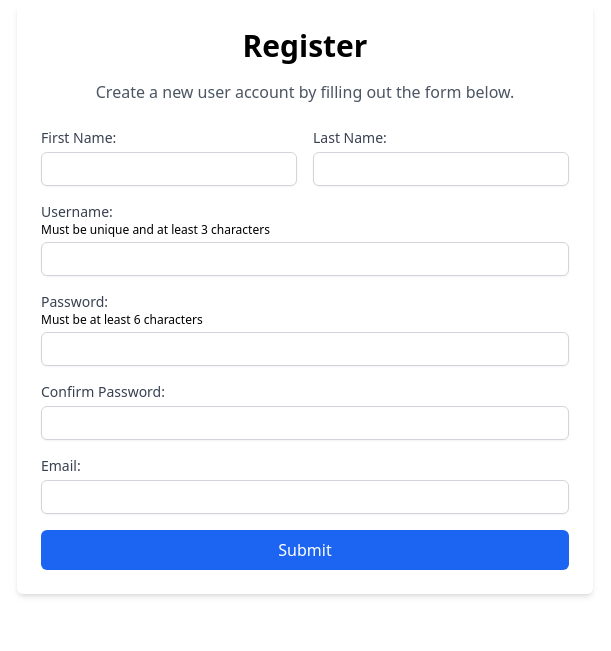
Test: RegisterUserForm component › shows generic error on network failure
Step 1. Type "testUser" into the field labelled "Username:" → (305, 259), box x1=41 y1=242 x2=569 y2=276
Step 2. Type "testPwd1" into the password field labelled "Password:" → (305, 349), box x1=41 y1=332 x2=569 y2=366
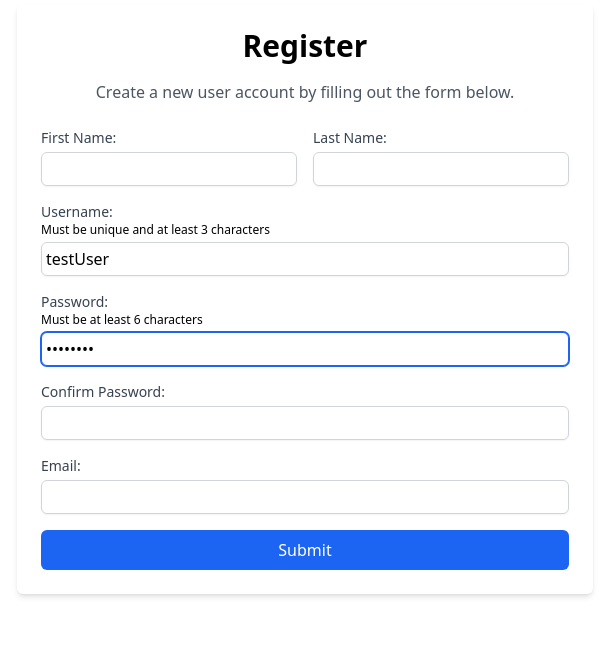
Step 3. Type "testPwd1" into the password field labelled "Confirm Password:" → (305, 423), box x1=41 y1=406 x2=569 y2=440
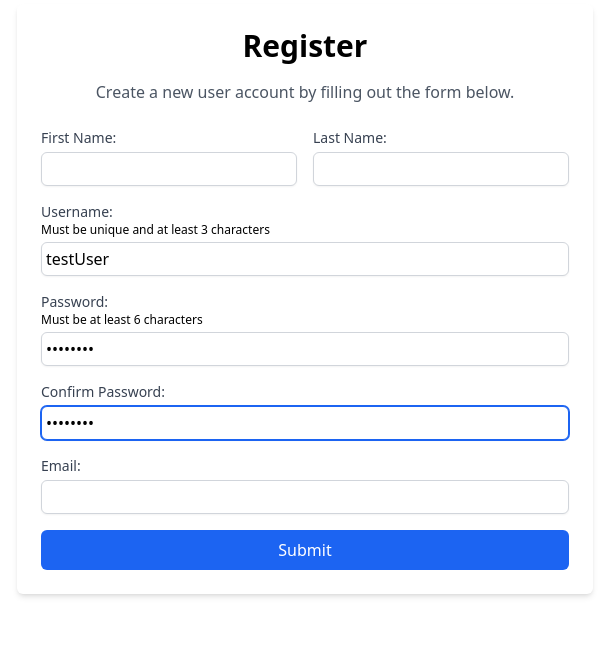
Step 4. Type "jd@example.com" into the field labelled "Email:" → (305, 497), box x1=41 y1=480 x2=569 y2=514
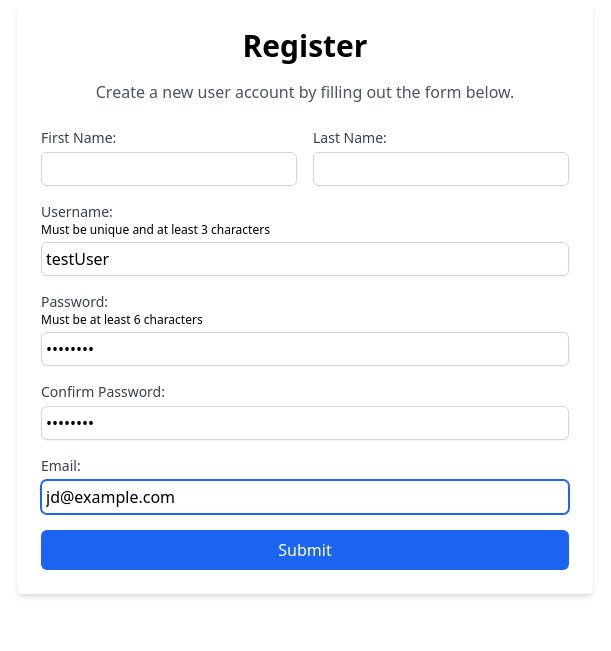
Step 5. Type "John" into the field labelled "First Name:" → (169, 169), box x1=41 y1=152 x2=297 y2=186
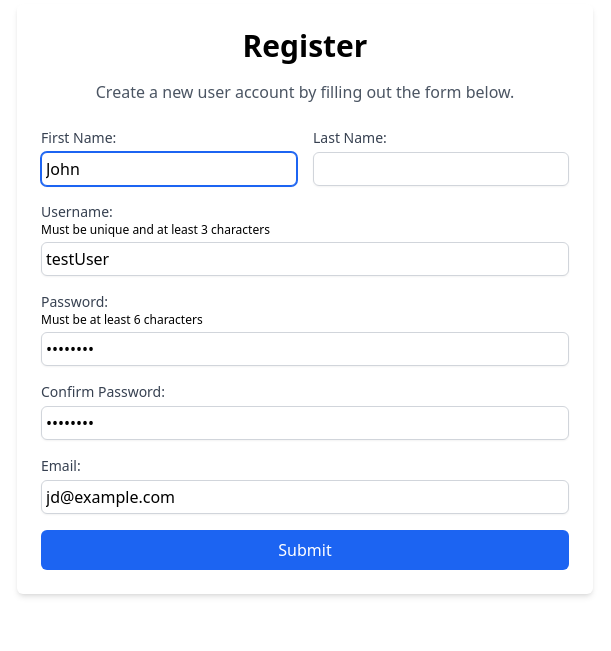
Step 6. Type "Doe" into the field labelled "Last Name:" → (441, 169), box x1=313 y1=152 x2=569 y2=186
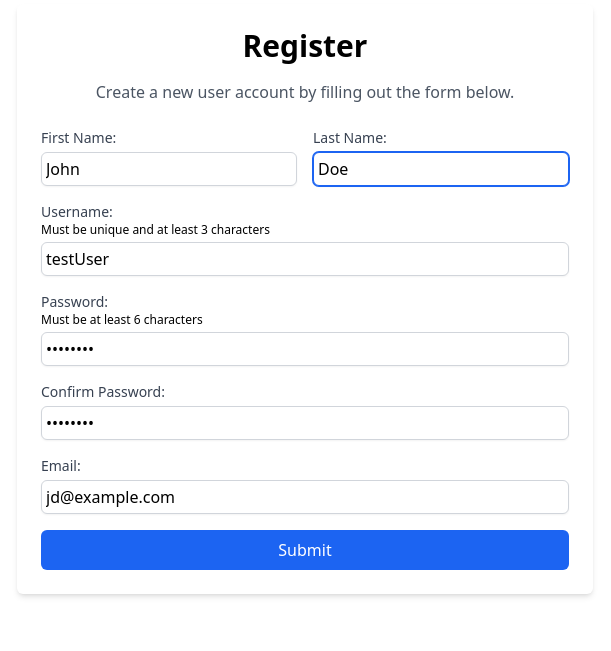
Step 7. Click the button "Submit" → (305, 550), box x1=41 y1=530 x2=569 y2=570
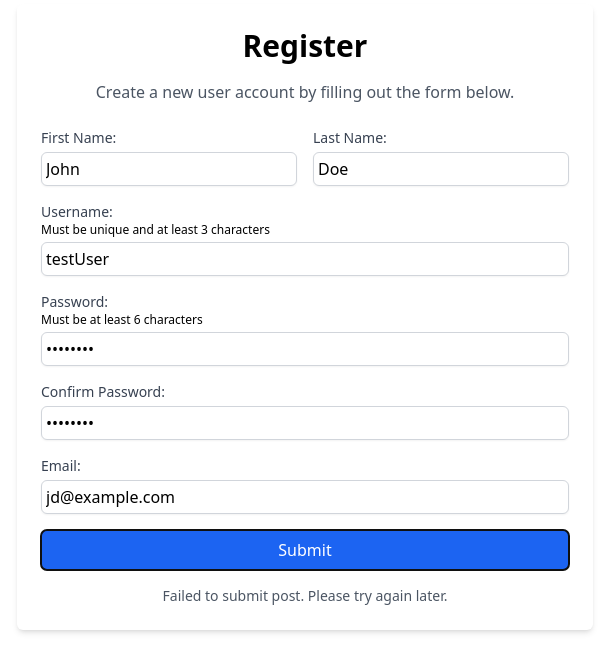
expect the text "Failed to submit post. Please try again later." is shown: met, box x1=163 y1=586 x2=448 y2=605
